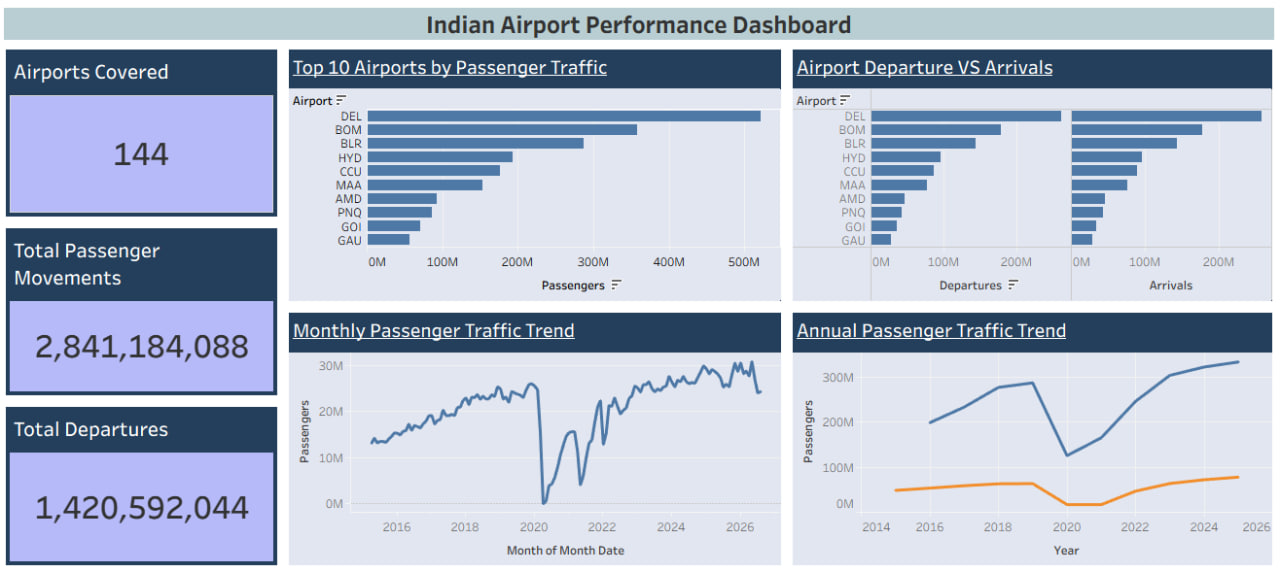

This screenshot's page, from the dashboard's own definition file:
{"tool":"tableau","page":{"name":"Indian Airport Performance Dashboard","canvas":[1330,600],"ordinal":0},"visuals":[{"type":"title","box":[8,8,1314,41]},{"type":"worksheet","title":"KPI-Airport Covered","mark":"Automatic","box":[8,49,291,184]},{"type":"worksheet","title":"Top 10 Airports by Passenger Traffic","mark":"Automatic","rows":["airport"],"cols":["passengers"],"box":[299,49,517.7,271.5]},{"type":"worksheet","title":"Airport Departures VS Arrivals","mark":"Automatic","rows":["airport"],"cols":["departures","arrivals"],"box":[816.7,49,505.3,271.5]},{"type":"worksheet","title":"KPI-Total Passenger Movements","mark":"Automatic","box":[8,233,291,184]},{"type":"worksheet","title":"Monthly Passenger Traffic Trend","mark":"Automatic","rows":["passengers"],"cols":["Calculation_1193311927734272"],"box":[299,320.5,517.7,271.5]},{"type":"worksheet","title":"Annual Passenger Traffic Trend","mark":"Line","rows":["passengers"],"cols":["year"],"box":[816.7,320.5,505.3,271.5]},{"type":"worksheet","title":"KPI-Total Departures","mark":"Automatic","box":[8,417,291,175]}]}

Visuals, with their boxes in screenshot pixels (x1, y1, x2, y2), scaled from the page's 1330x600 canvas onto the 1280x572 screenshot:
title: x1=8 y1=8 x2=1272 y2=47
"KPI-Airport Covered" worksheet: x1=8 y1=47 x2=288 y2=222
"Top 10 Airports by Passenger Traffic" worksheet: x1=288 y1=47 x2=786 y2=306
"Airport Departures VS Arrivals" worksheet: x1=786 y1=47 x2=1272 y2=306
"KPI-Total Passenger Movements" worksheet: x1=8 y1=222 x2=288 y2=398
"Monthly Passenger Traffic Trend" worksheet: x1=288 y1=306 x2=786 y2=564
"Annual Passenger Traffic Trend" worksheet (Line marks): x1=786 y1=306 x2=1272 y2=564
"KPI-Total Departures" worksheet: x1=8 y1=398 x2=288 y2=564
